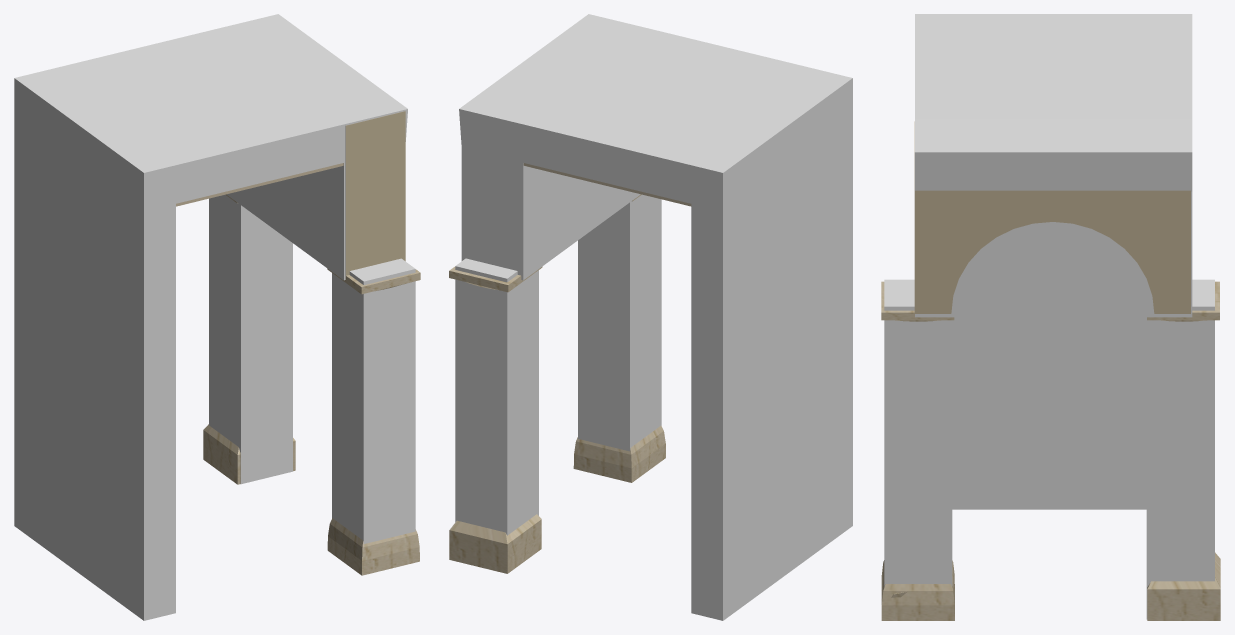
File: Wall.gltf
The picture shows the model from 3 angles, left to right: view 1: azimuth 30°, elevation 25°; view 2: azimuth 150°, elevation 25°; view 3: azimuth 270°, elevation 25°; orthographic projection. The views are drawn at different scales.
Parts seen in each view (by area): view 1: COL.001, COL, COL.002, 円, Pedestal, Pedestal.001, Top, 立方体.001; view 2: COL.001, COL.002, COL, Pedestal.001, Pedestal, Top.001, 立方体.001; view 3: COL.001, 円, COL, COL.002, Pedestal.001, Pedestal, Top, Top.001.
Boxes of the visible parts, x1=… form: COL.001: x1=14, y1=14, x2=407, y2=620; COL: x1=332, y1=258, x2=415, y2=543; COL.002: x1=209, y1=195, x2=292, y2=484; 円: x1=345, y1=111, x2=405, y2=276; Pedestal: x1=327, y1=518, x2=419, y2=575; Pedestal.001: x1=203, y1=424, x2=295, y2=484; Top: x1=327, y1=268, x2=420, y2=294; 立方体.001: x1=176, y1=163, x2=343, y2=206; COL.001: x1=459, y1=14, x2=852, y2=620; COL.002: x1=455, y1=258, x2=538, y2=535; COL: x1=578, y1=194, x2=661, y2=451; Pedestal.001: x1=449, y1=514, x2=541, y2=573; Pedestal: x1=573, y1=425, x2=665, y2=482; Top.001: x1=449, y1=266, x2=542, y2=292; 立方体.001: x1=523, y1=163, x2=691, y2=206; COL.001: x1=915, y1=14, x2=1192, y2=509; 円: x1=914, y1=121, x2=1190, y2=313; COL: x1=884, y1=279, x2=952, y2=586; COL.002: x1=1146, y1=279, x2=1214, y2=619; Pedestal.001: x1=1147, y1=552, x2=1220, y2=620; Pedestal: x1=881, y1=560, x2=954, y2=620; Top: x1=881, y1=281, x2=954, y2=321; Top.001: x1=1147, y1=281, x2=1219, y2=321.
Size of the model in its own units: 18.43 by 29.87 by 19.18.
1 material, 1 textured.
